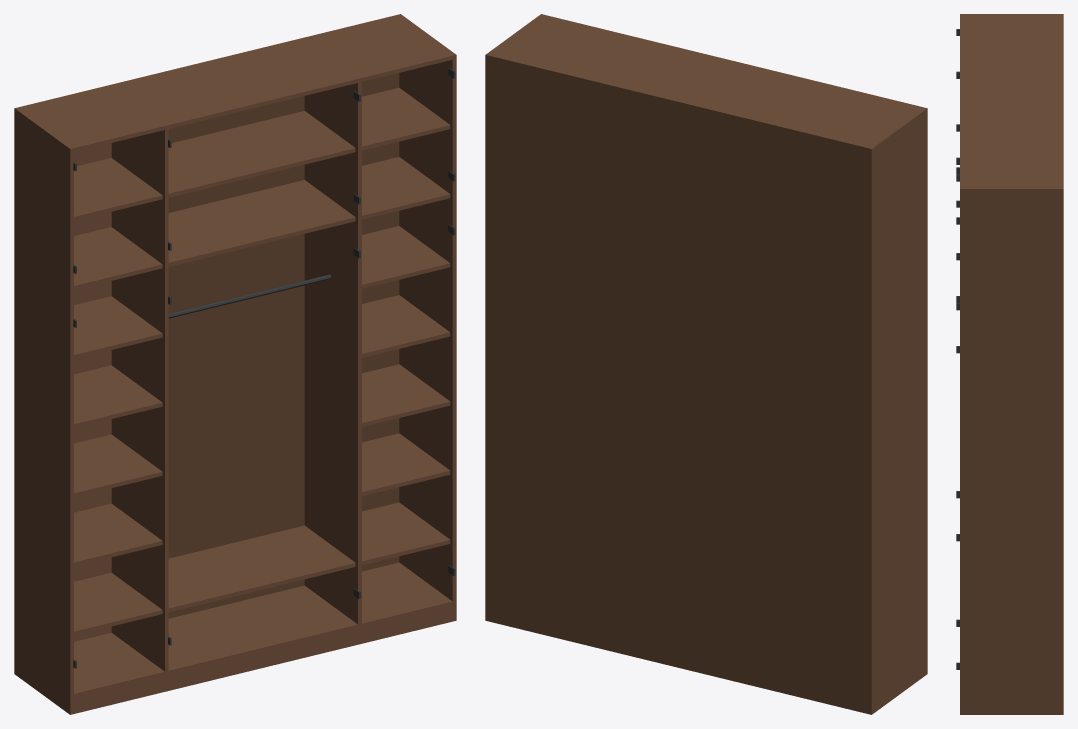
Rendered from Wardrobe9_C3.fbx.
3 renders of one model, left to right at view 1: azimuth 30°, elevation 25°; view 2: azimuth 150°, elevation 25°; view 3: azimuth 270°, elevation 25°, orthographic. The views are drawn at different scales.
Visible parts, largest first — view 1: Wardrobe9_C3; view 2: Wardrobe9_C3; view 3: Wardrobe9_C3.
Part boxes in pixels (<box>): Wardrobe9_C3: <box>14,14,456,714</box>; Wardrobe9_C3: <box>485,14,927,714</box>; Wardrobe9_C3: <box>956,14,1063,714</box>.
Bounding box in the file's own units: 200 × 280 × 51.79.
